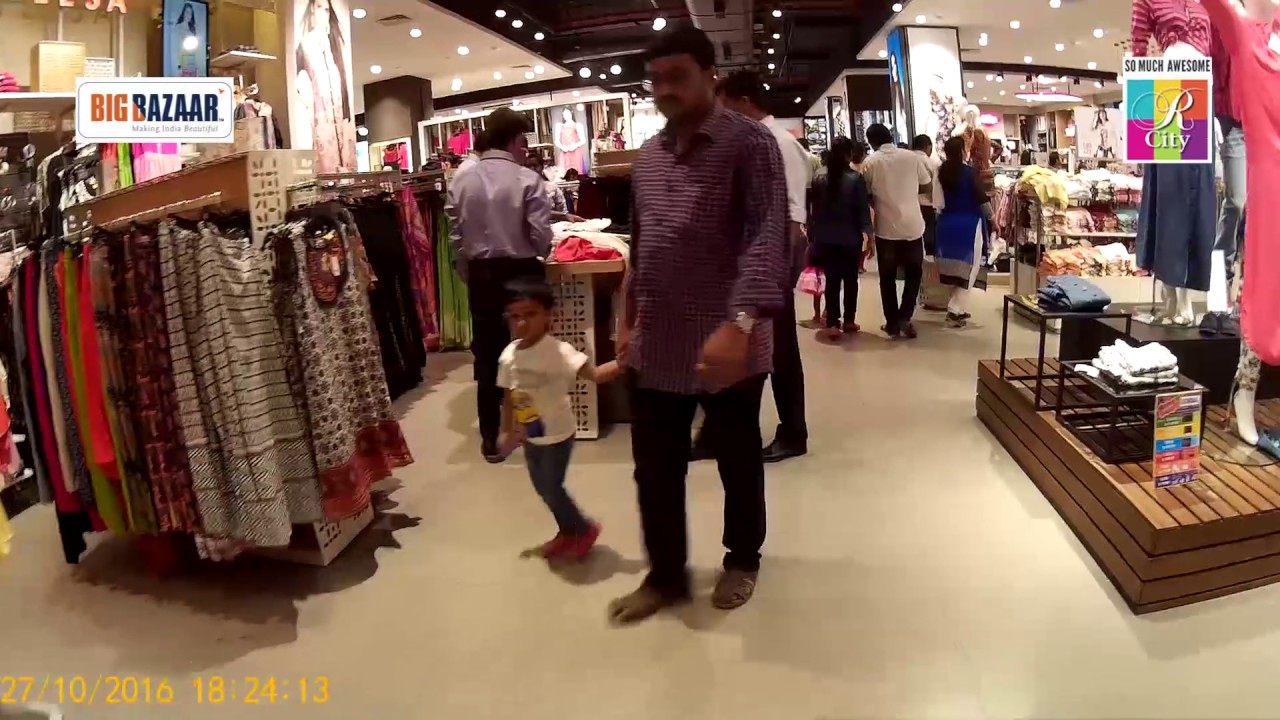Age_30_40: (646, 32, 717, 122)
Age_below20: (506, 292, 549, 342)
E_Indian: (646, 32, 717, 122), (506, 292, 549, 342)
Emotion_Neutral: (646, 32, 717, 122), (506, 292, 549, 342)
G_Male: (646, 32, 717, 122), (506, 292, 549, 342)
Not_Face: (482, 110, 526, 155), (728, 76, 766, 116), (826, 134, 854, 166), (867, 123, 893, 150), (964, 103, 981, 129)
